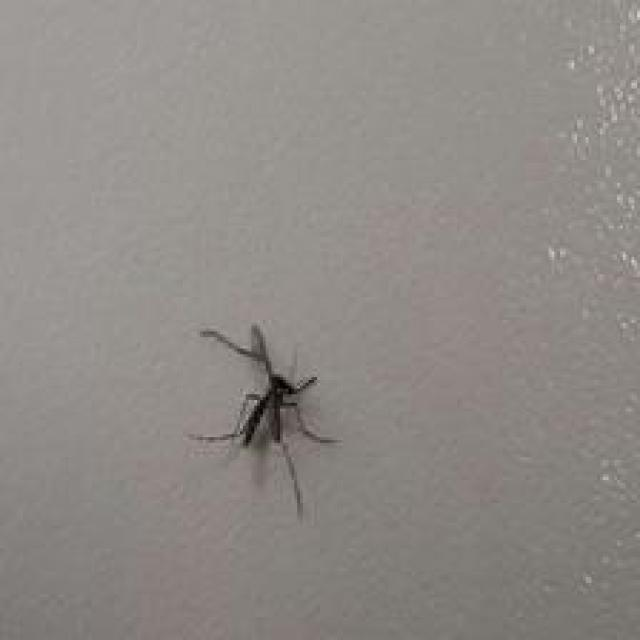Aedes albopictus: (187, 322, 339, 518)
